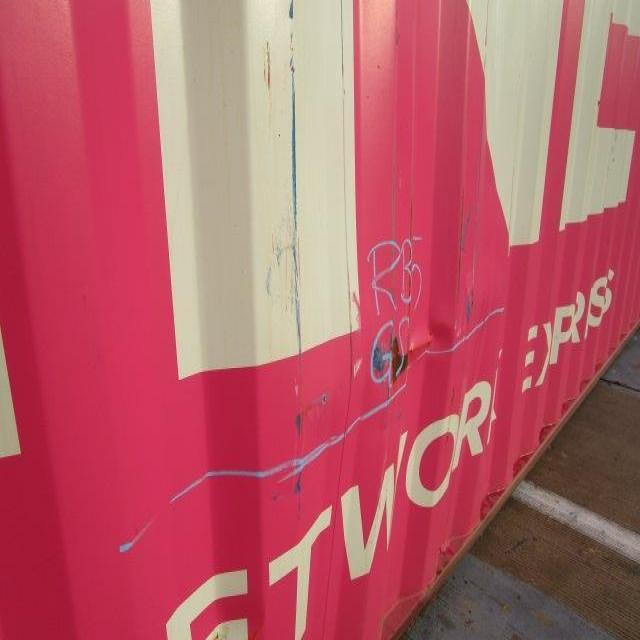Dent: (195, 216, 535, 609)
